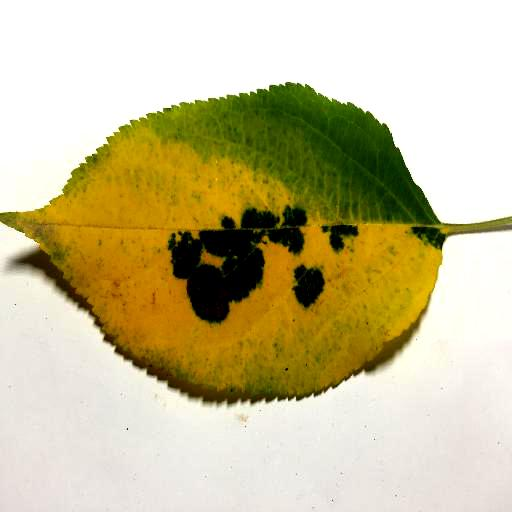Brown_Spot: (175, 265, 231, 331)
